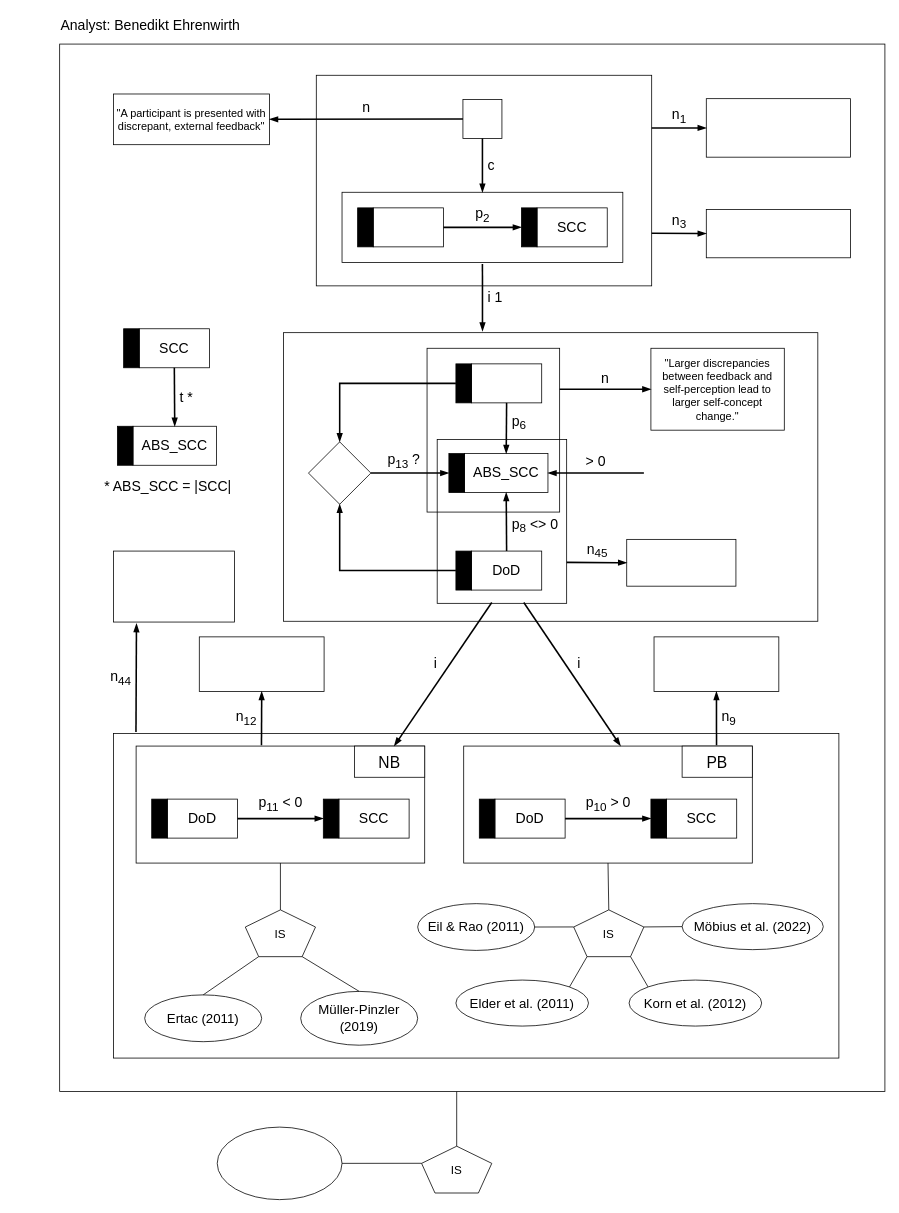
Image size: 899x1213. Some labels were removed from this diagram. The centre of each missing label's shape, as x and y in pixels:
"Asymmetric self-concept change": [681,562]
"Contradictory findings about the direction of asymmetry in self-concept change": [173,586]
"Negativity bias in self-concept change": [261,663]
"Positivity bias in self-concept change": [716,663]
"Self-concept change after discrepant self-relevant feedback": [778,127]
"Self-concept change in accordance with feedback": [778,233]
AND: [339,472]
Brotzeller & Gollwitzer (2025): [279,1163]
DIS: [407,227]
EF: [482,118]
SoD: [506,383]
